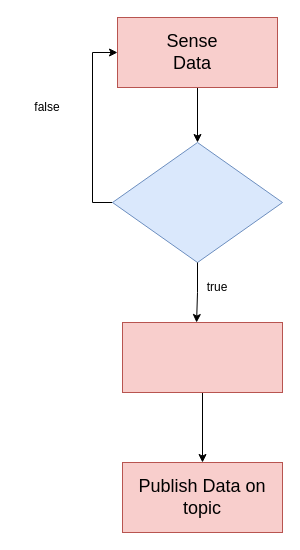
Some shapes in this 300 by 550 pixel diagram are drawn without their labels. Each missing label, with the centre of its shape:
"MQTT_STATUS == OK" goes at pixel 197 202.
"Serialize Data to JSON" goes at pixel 202 357.
